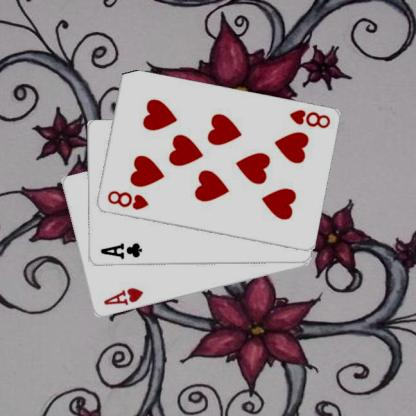8H: (104, 188, 150, 212), (286, 106, 332, 130)
AC: (97, 240, 142, 260)
AH: (101, 285, 144, 307)
